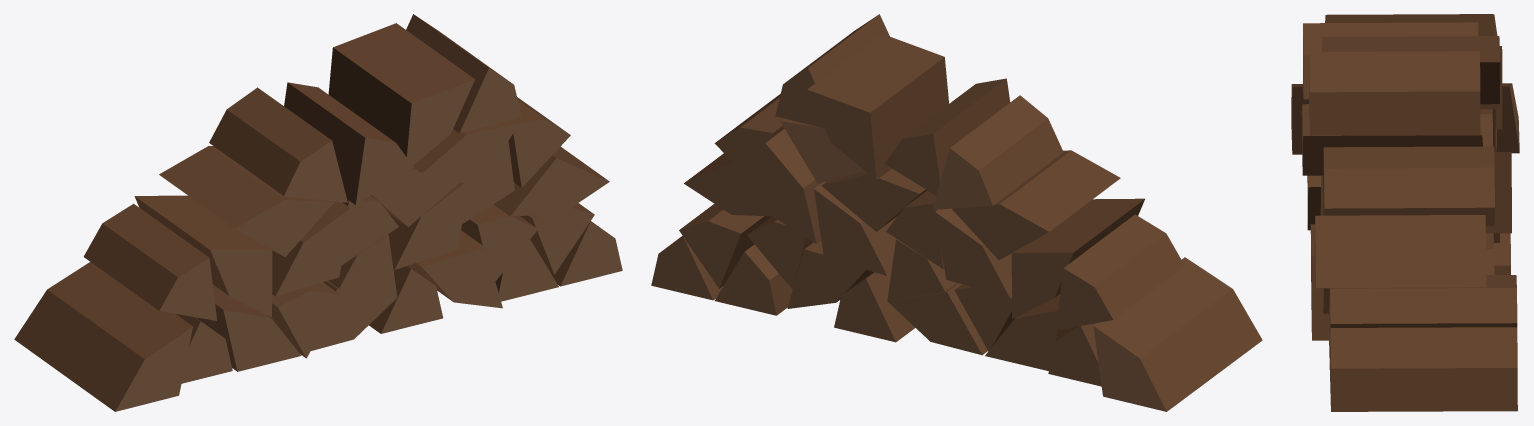
File: WoodFire.fbx
3 renders of one model, left to right at view 1: azimuth 30°, elevation 25°; view 2: azimuth 150°, elevation 25°; view 3: azimuth 270°, elevation 25°, orthographic. The views are drawn at different scales.
Parts seen in each view (by area): view 1: WoodFire; view 2: WoodFire; view 3: WoodFire.
Part boxes in pixels (box(x1,y1,x2,y2)): WoodFire: box(14, 14, 622, 411); WoodFire: box(651, 14, 1262, 411); WoodFire: box(1291, 14, 1519, 411).
Size of the model in its own units: 175 by 78.07 by 57.57.
